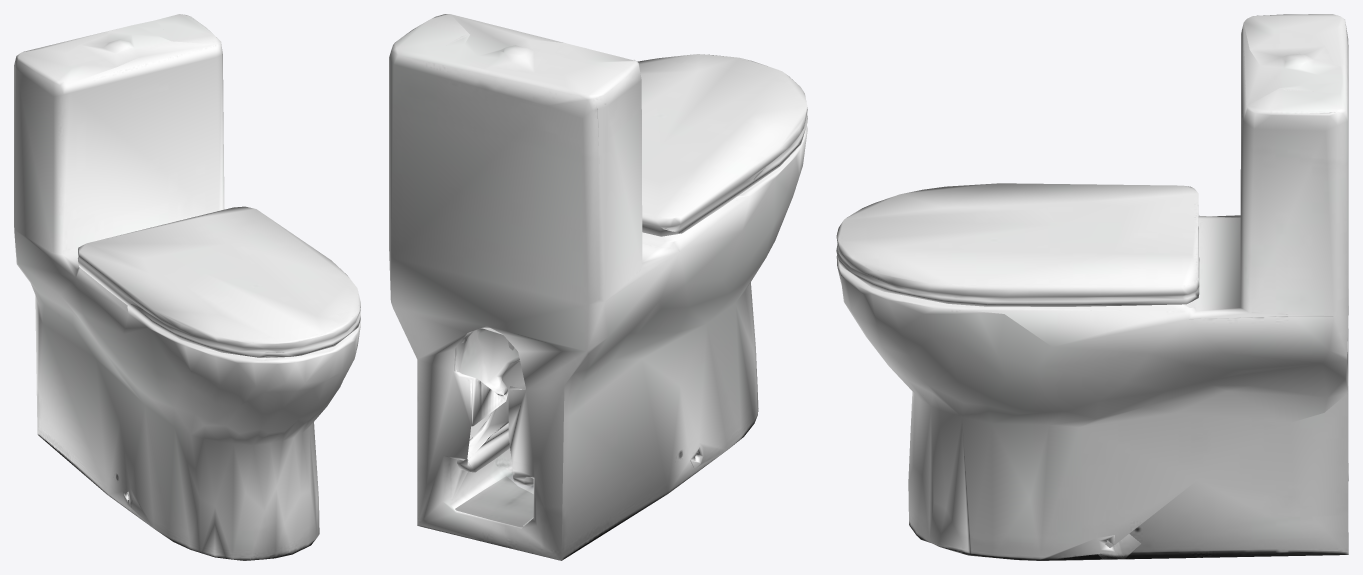
The model's file is toilet.glb.
3 renders of one model, left to right at view 1: azimuth 30°, elevation 25°; view 2: azimuth 150°, elevation 25°; view 3: azimuth 270°, elevation 25°, orthographic. The views are drawn at different scales.
Parts seen in each view (by area): view 1: Mesh1.0; view 2: Mesh1.0; view 3: Mesh1.0.
Part boxes in pixels (x1,y1,x2,y2): Mesh1.0: [14, 14, 360, 560]; Mesh1.0: [389, 14, 807, 560]; Mesh1.0: [836, 14, 1348, 560].
Size of the model in its own units: 0.9411 by 1.91 by 1.91.
Materials: 1 (1 with a texture image).
